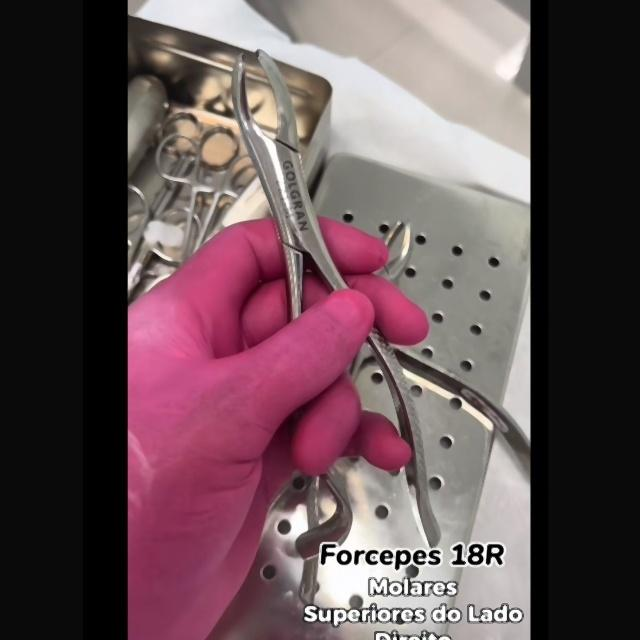forceps: (233, 51, 350, 322), (368, 331, 441, 550), (306, 477, 341, 535), (299, 542, 319, 604)
